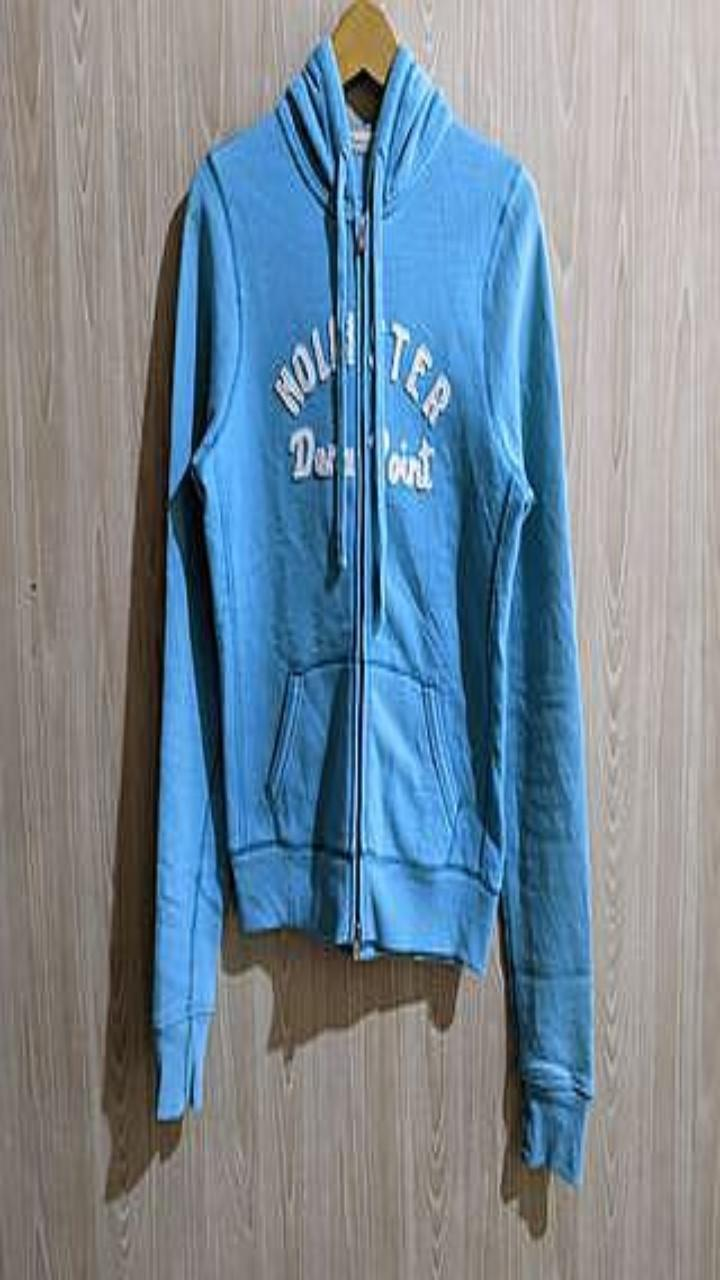Hoodie: (152, 36, 593, 1182)
